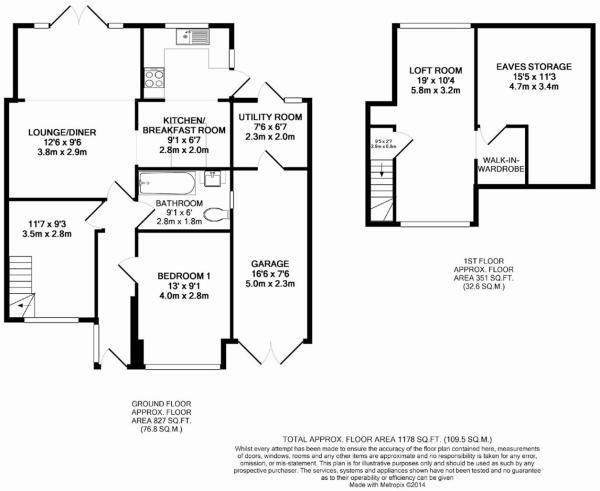GrossArea: (282, 434, 497, 444)
